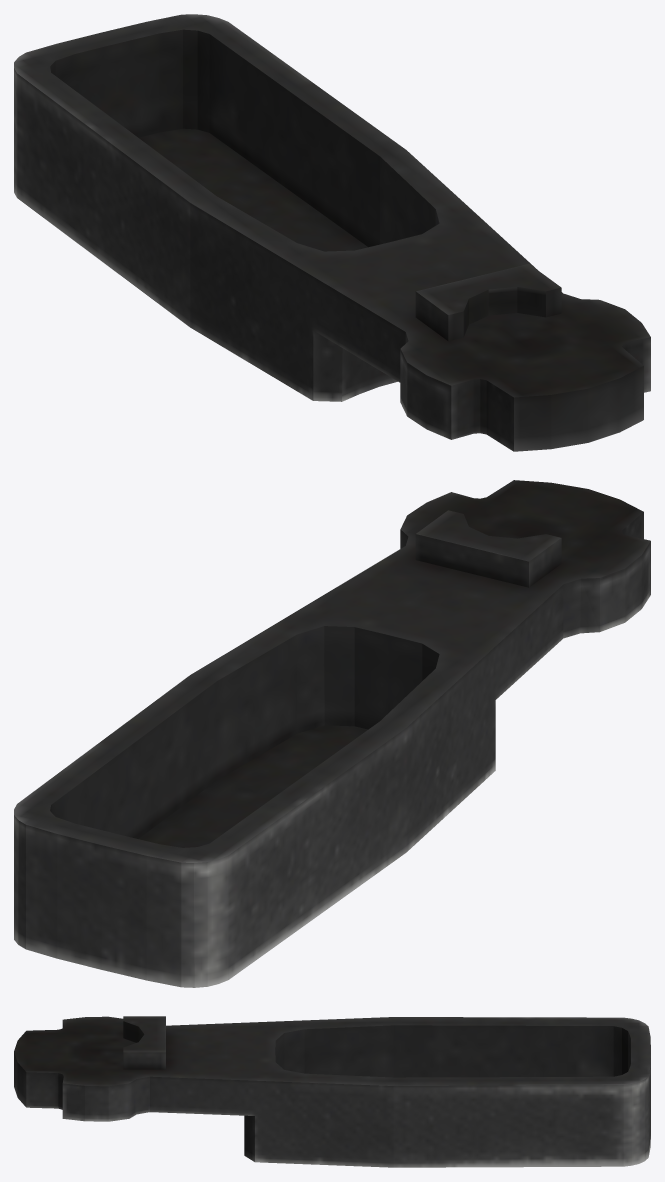
3 renders of one model, top to bottom at view 1: azimuth 30°, elevation 25°; view 2: azimuth 150°, elevation 25°; view 3: azimuth 270°, elevation 25°, orthographic. The views are drawn at different scales.
Visible parts, largest first — view 1: TW_623063e994fc3f7b302a9696_PZ_Import; view 2: TW_623063e994fc3f7b302a9696_PZ_Import; view 3: TW_623063e994fc3f7b302a9696_PZ_Import.
Boxes of the visible parts, x1=… form: TW_623063e994fc3f7b302a9696_PZ_Import: x1=14, y1=14, x2=650, y2=451; TW_623063e994fc3f7b302a9696_PZ_Import: x1=14, y1=480, x2=650, y2=987; TW_623063e994fc3f7b302a9696_PZ_Import: x1=14, y1=1016, x2=650, y2=1167.
Size of the model in its own units: 0.00945 by 0.0365 by 0.00625.
Materials: 1 (1 with a texture image).
